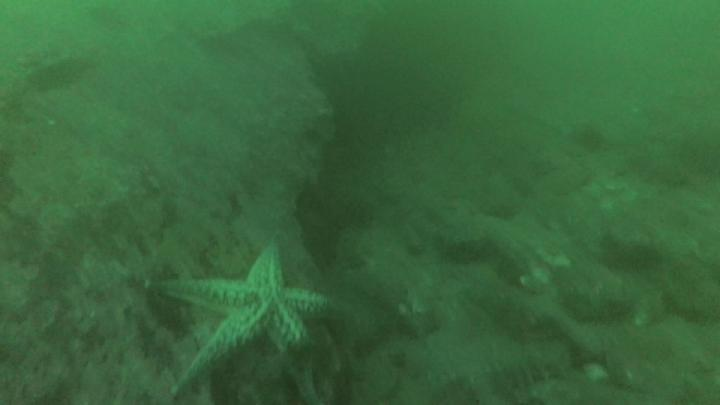holothurian: (497, 357, 567, 388)
starfish: (152, 233, 331, 402)
